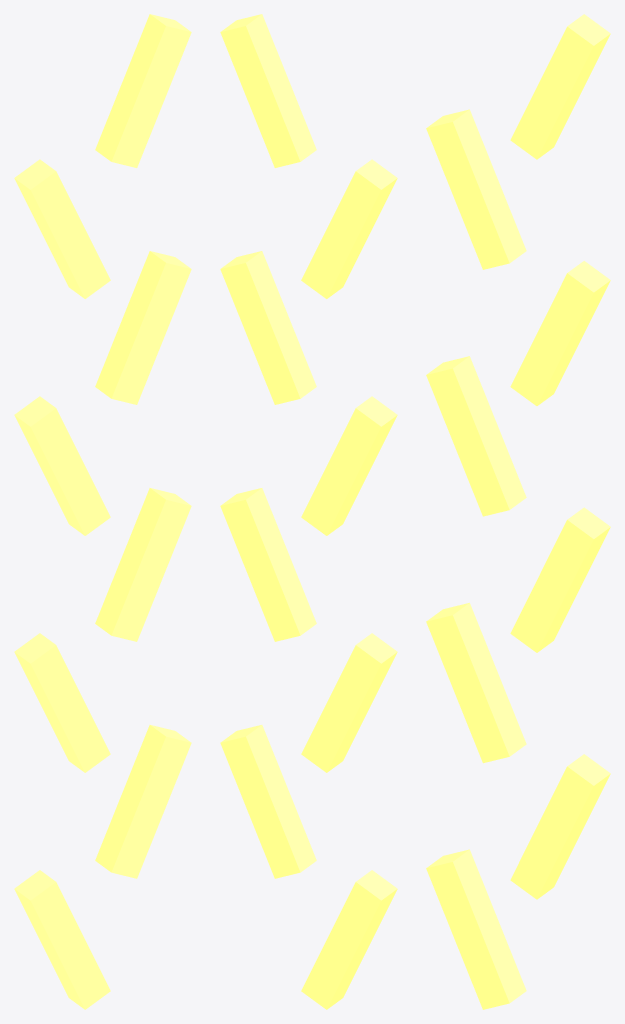
File: FXLightning.fbx
3 renders of one model, left to right at view 1: azimuth 30°, elevation 25°; view 2: azimuth 150°, elevation 25°; view 3: azimuth 330°, elevation 25°, orthographic. The views are drawn at different scales.
Parts seen in each view (by area): view 1: FX Lightning_body_7, FX Lightning_body_1, FX Lightning_body_5, FX Lightning_body_3, FX Lightning_body_4, FX Lightning_body_0, FX Lightning_body_6, FX Lightning_body_2; view 2: FX Lightning_body_7, FX Lightning_body_1, FX Lightning_body_5, FX Lightning_body_3, FX Lightning_body_4, FX Lightning_body_0, FX Lightning_body_6, FX Lightning_body_2; view 3: FX Lightning_body_0, FX Lightning_body_4, FX Lightning_body_6, FX Lightning_body_2, FX Lightning_body_1, FX Lightning_body_7, FX Lightning_body_5, FX Lightning_body_3.
Boxes of the visible parts, x1,y1,x2,y2 form: FX Lightning_body_7: (95,14,191,167); FX Lightning_body_1: (95,725,191,878); FX Lightning_body_5: (95,251,191,404); FX Lightning_body_3: (95,488,191,641); FX Lightning_body_4: (14,396,110,535); FX Lightning_body_0: (14,870,110,1009); FX Lightning_body_6: (14,159,110,298); FX Lightning_body_2: (14,633,110,772); FX Lightning_body_7: (220,14,316,167); FX Lightning_body_1: (220,725,316,878); FX Lightning_body_5: (220,251,316,404); FX Lightning_body_3: (220,488,316,641); FX Lightning_body_4: (301,396,397,535); FX Lightning_body_0: (301,870,397,1009); FX Lightning_body_6: (301,159,397,298); FX Lightning_body_2: (301,633,397,772); FX Lightning_body_0: (426,849,526,1009); FX Lightning_body_4: (426,356,526,516); FX Lightning_body_6: (426,109,526,269); FX Lightning_body_2: (426,602,526,763); FX Lightning_body_1: (510,754,610,899); FX Lightning_body_7: (510,14,610,159); FX Lightning_body_5: (510,261,610,405); FX Lightning_body_3: (510,507,610,652).
Size of the model in its own units: 199 by 1140 by 35.
